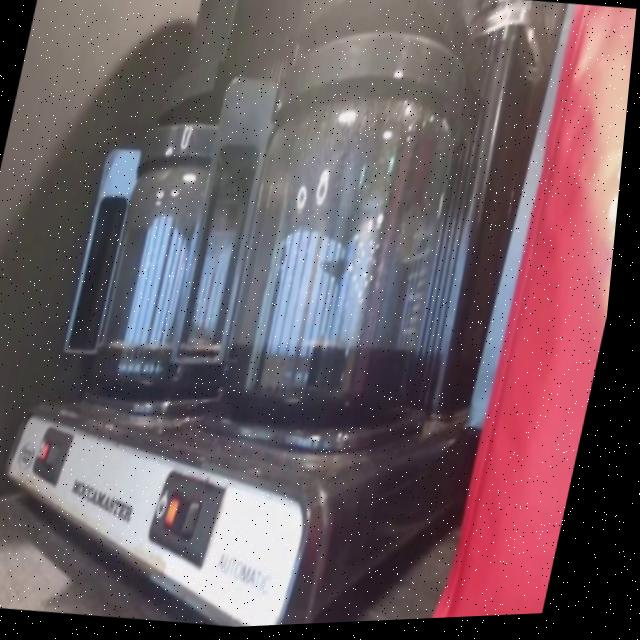coffee: (218, 112, 465, 445), (87, 167, 271, 411)
